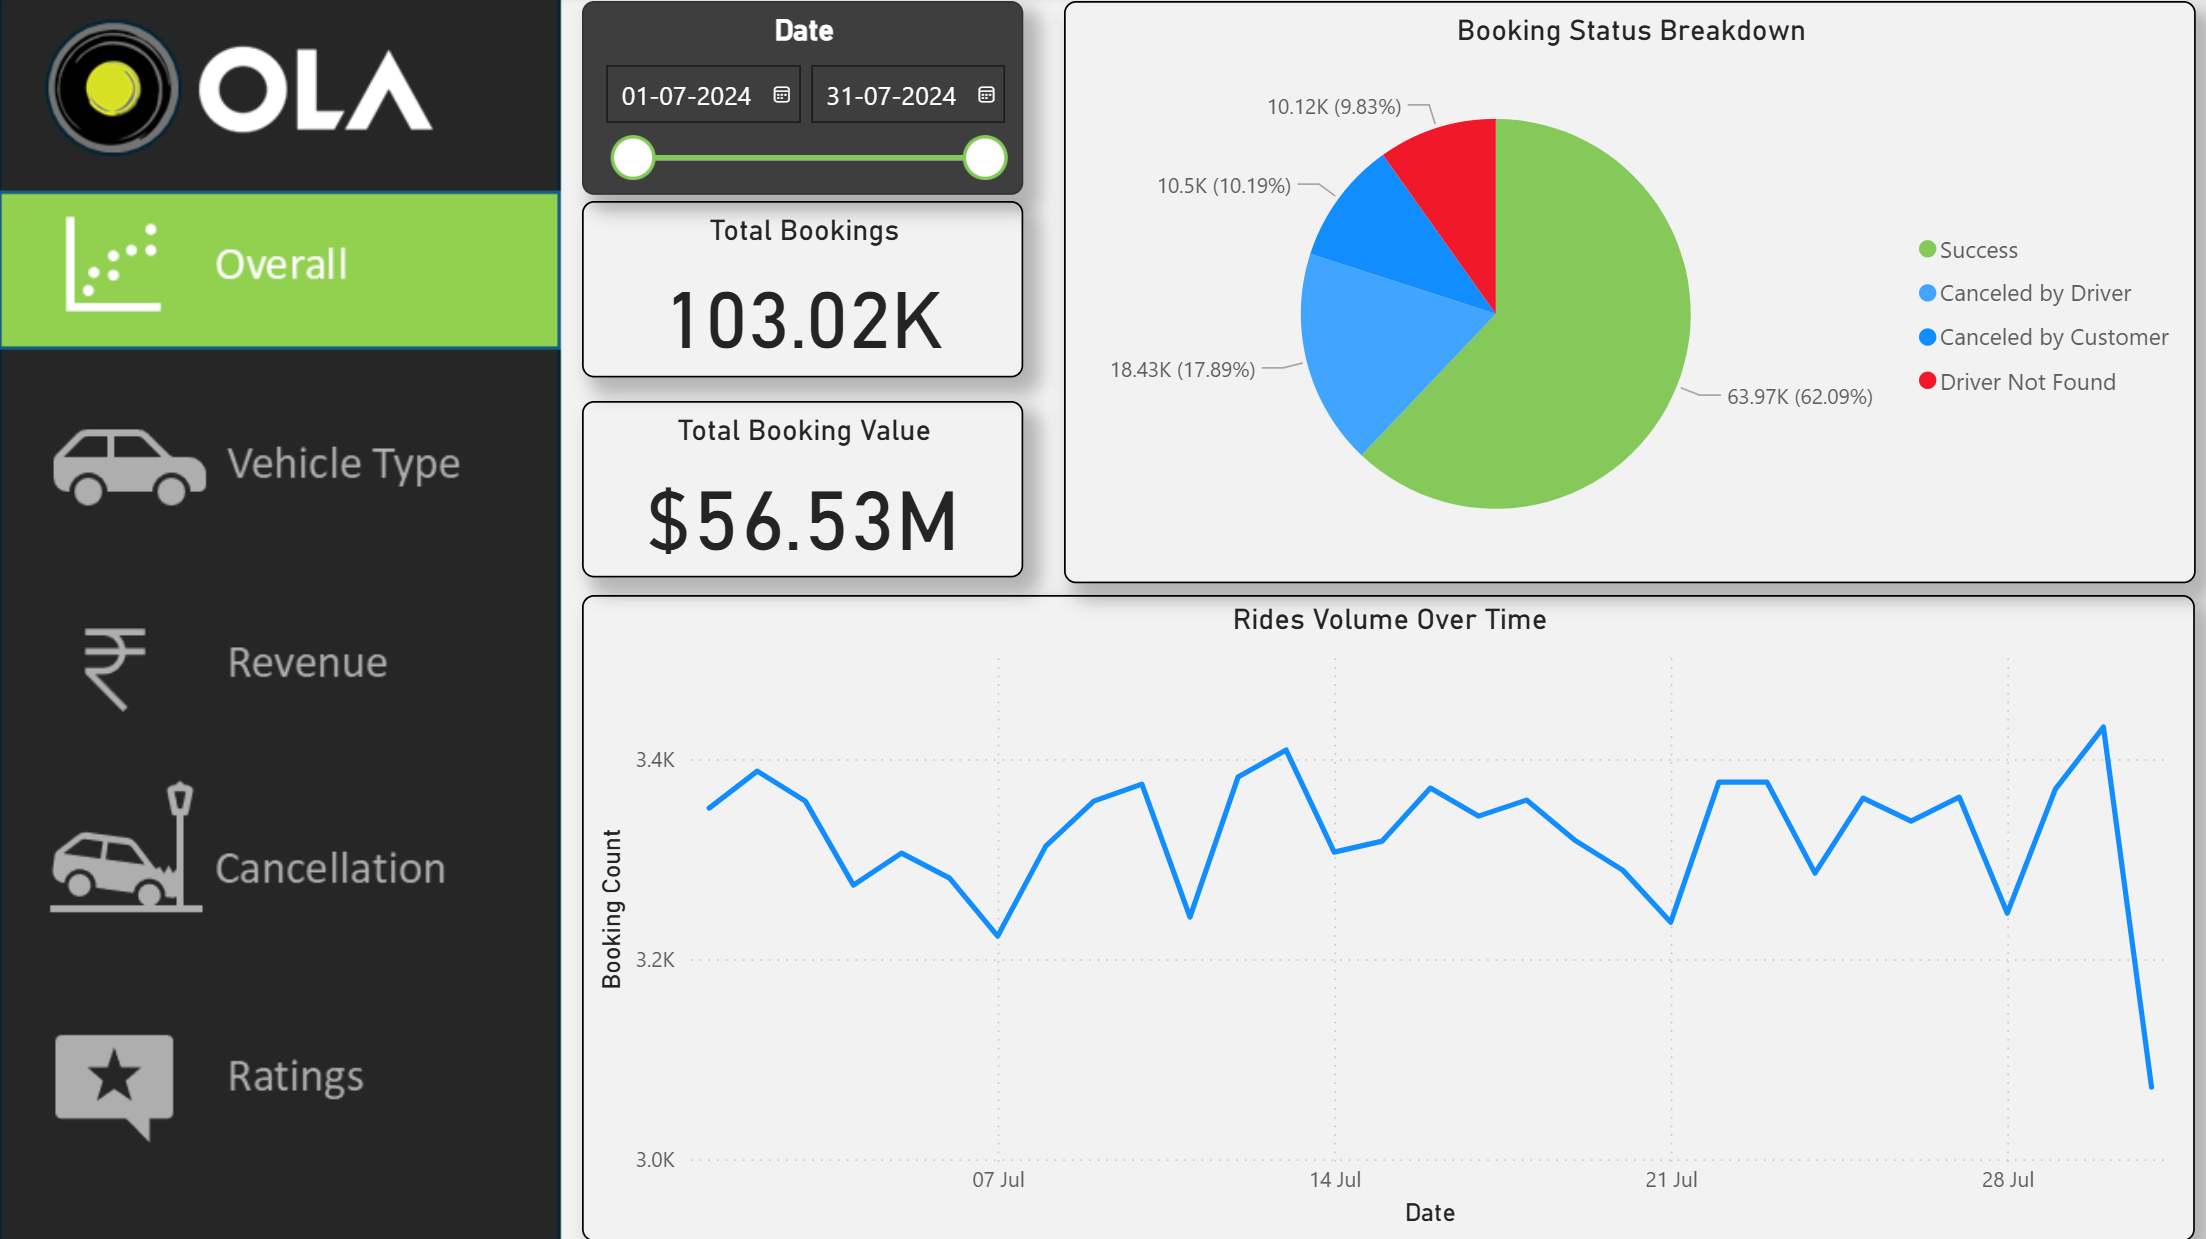

What the dashboard file says about the page in this screenshot:
{"tool":"powerbi","page":{"name":"Overall","canvas":[1280,720],"ordinal":0},"visuals":[{"type":"actionButton","box":[0,111.8,324.6,94.9],"z":0},{"type":"actionButton","box":[0,220.5,324.6,94.9],"z":1000},{"type":"actionButton","box":[0,336.8,324.6,94.9],"z":2000},{"type":"actionButton","box":[0,451.7,324.6,94.9],"z":3000},{"type":"actionButton","box":[0,576.3,323.8,95.6],"z":4000},{"type":"slicer","title":"Date","fields":{"Values":["Bookings.Date"]},"box":[336.6,3,255,112.2],"z":5000},{"type":"card","title":"Total Bookings","fields":{"Values":["Count(Bookings.Booking_ID)"]},"box":[336.6,118.6,255,102],"z":6000},{"type":"card","title":"Total Booking Value","fields":{"Values":["Sum(Bookings.Booking_Value)"]},"box":[336.6,234.6,255,102],"z":7000},{"type":"pieChart","title":"Booking Status Breakdown","fields":{"Category":["Bookings.Booking_Status"],"Y":["CountNonNull(Bookings.Booking_Status)"]},"box":[614.5,3,654,336.6],"z":8000},{"type":"lineChart","title":"Rides Volume Over Time","fields":{"Y":["CountNonNull(Bookings.Booking_Status)"],"Category":["Bookings.Date"]},"box":[336.6,346.8,932,373.5],"z":9000}]}

Visuals, with their boxes in screenshot pixels (x1, y1, x2, y2), scaled from the page's 1280x720 canvas onto the 2206x1239 screenshot:
actionButton: [0, 192, 559, 356]
actionButton: [0, 379, 559, 543]
actionButton: [0, 580, 559, 743]
actionButton: [0, 777, 559, 941]
actionButton: [0, 992, 558, 1156]
"Date" slicer: [580, 5, 1020, 198]
"Total Bookings" card: [580, 204, 1020, 380]
"Total Booking Value" card: [580, 404, 1020, 579]
"Booking Status Breakdown" pieChart: [1059, 5, 2186, 584]
"Rides Volume Over Time" lineChart: [580, 597, 2186, 1238]
